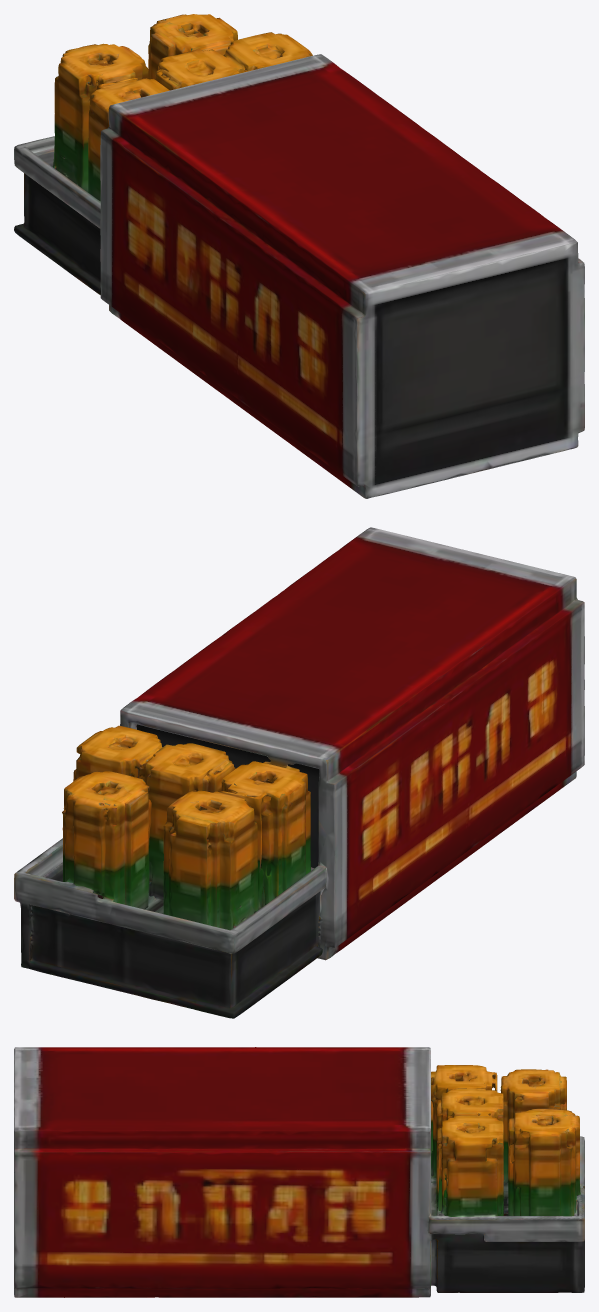
The model's file is SBOXA0_2026-08-09T022303.993.glb.
3 renders of one model, top to bottom at view 1: azimuth 30°, elevation 25°; view 2: azimuth 150°, elevation 25°; view 3: azimuth 270°, elevation 25°, orthographic. The views are drawn at different scales.
Visible parts, largest first — view 1: world; view 2: world; view 3: world.
Part boxes in pixels (box(x1,y1,x2,y2)): world: box(14, 14, 584, 498); world: box(14, 527, 584, 1018); world: box(14, 1047, 584, 1297).
Size of the model in its own units: 0.3876 by 0.3252 by 1.
Materials: 1 (1 with a texture image).
